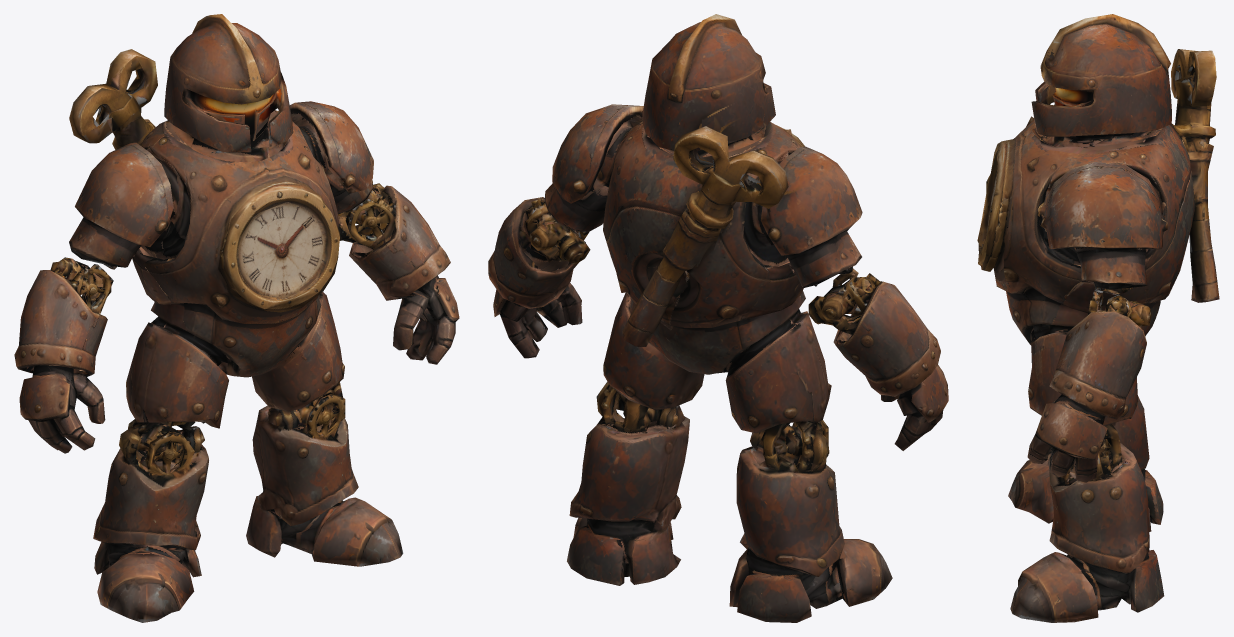
The model's file is Enemy_ClockworkSoldier.fbx.
The picture shows the model from 3 angles, left to right: view 1: azimuth 30°, elevation 25°; view 2: azimuth 150°, elevation 25°; view 3: azimuth 270°, elevation 25°; orthographic projection. The views are drawn at different scales.
Visible parts, largest first — view 1: texture_mapping; view 2: texture_mapping; view 3: texture_mapping.
Part boxes in pixels (<box>): texture_mapping: <box>14,14,459,622</box>; texture_mapping: <box>488,14,948,622</box>; texture_mapping: <box>977,14,1219,622</box>.
Bounding box in the file's own units: 0.8225 × 0.4055 × 1.
Materials: 1 (1 with a texture image).
